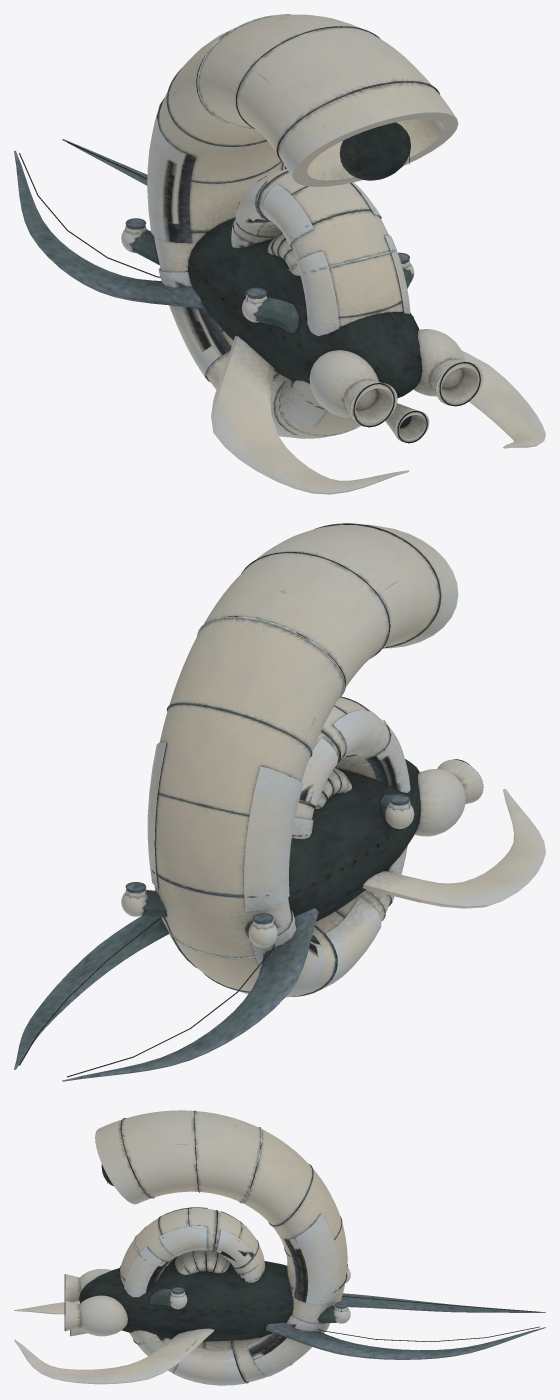
File: wake_eater_hero.glb
3 views of the same model, one above another, from view 1: azimuth 30°, elevation 25°; view 2: azimuth 150°, elevation 25°; view 3: azimuth 270°, elevation 25° (orthographic). The views are drawn at different scales.
Parts seen in each view (by area): view 1: HullBaked; view 2: HullBaked; view 3: HullBaked.
Part boxes in pixels (bbox=[...]): HullBaked: bbox=[14, 14, 545, 494]; HullBaked: bbox=[14, 523, 545, 1081]; HullBaked: bbox=[14, 1110, 545, 1385].
Size of the model in its own units: 98.78 by 138 by 255.
Materials: 1 (1 with a texture image).
